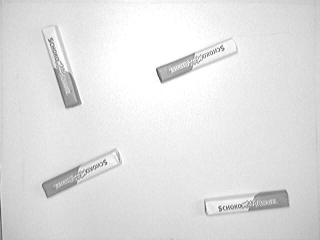Riegel: (40, 144, 124, 201), (153, 36, 240, 87), (40, 23, 84, 111), (202, 188, 292, 217)
